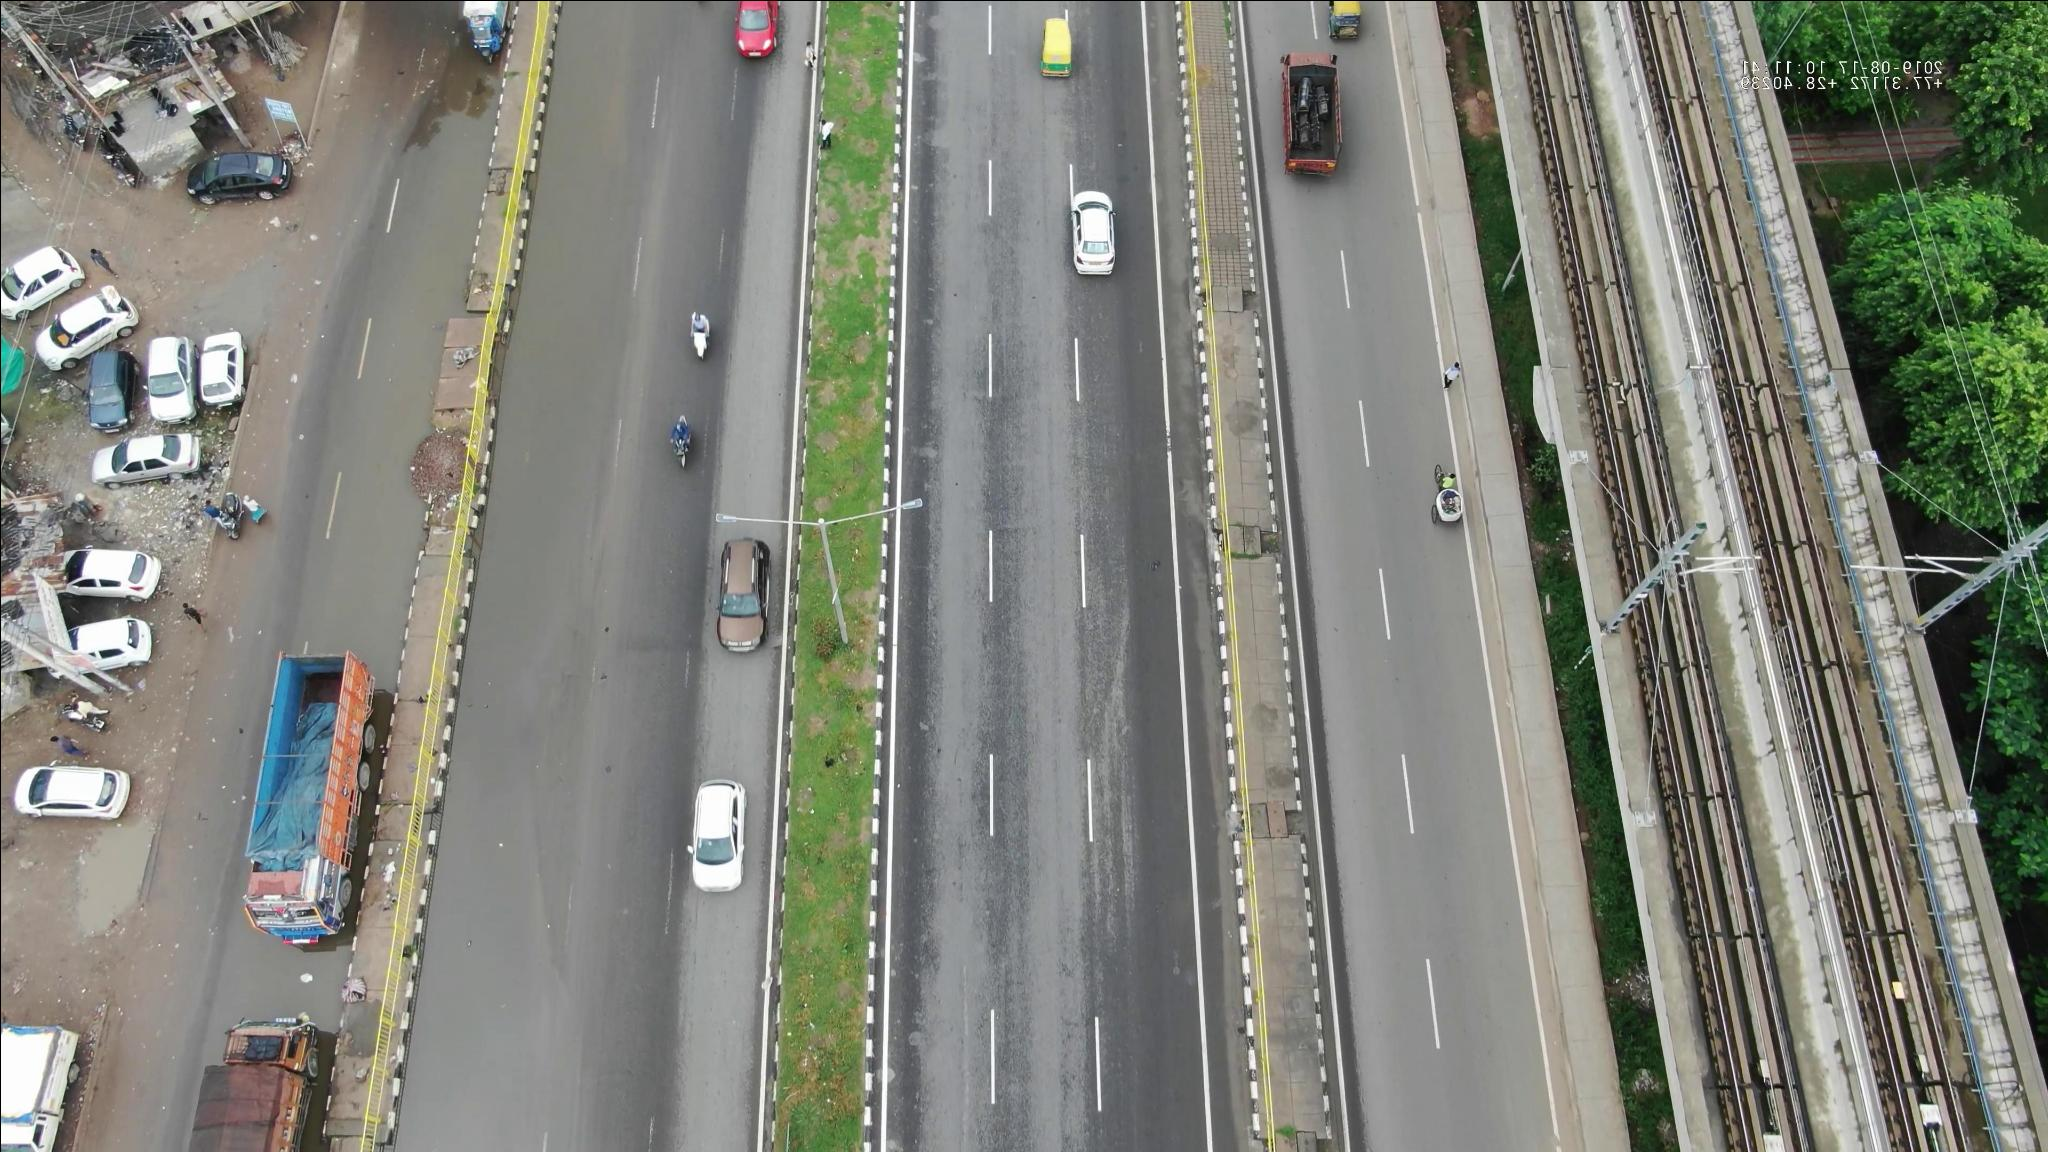Waterlogging: (464, 125, 637, 741), (318, 87, 492, 557), (411, 819, 578, 1137)
